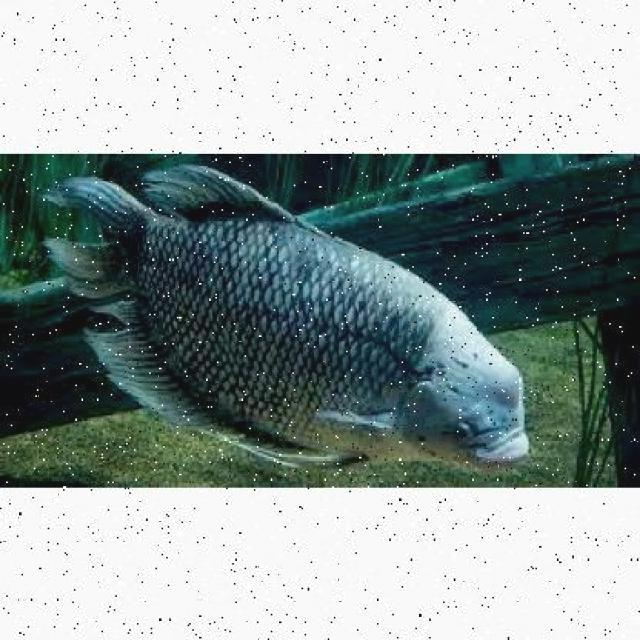gurame: (47, 166, 538, 474)
